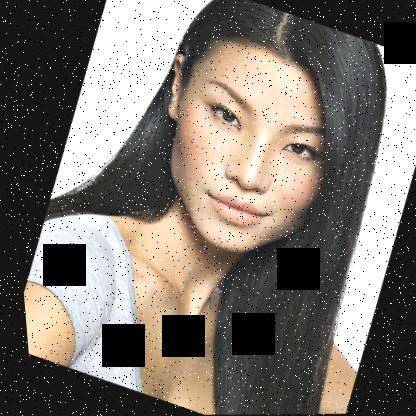Female: (116, 21, 362, 274)
